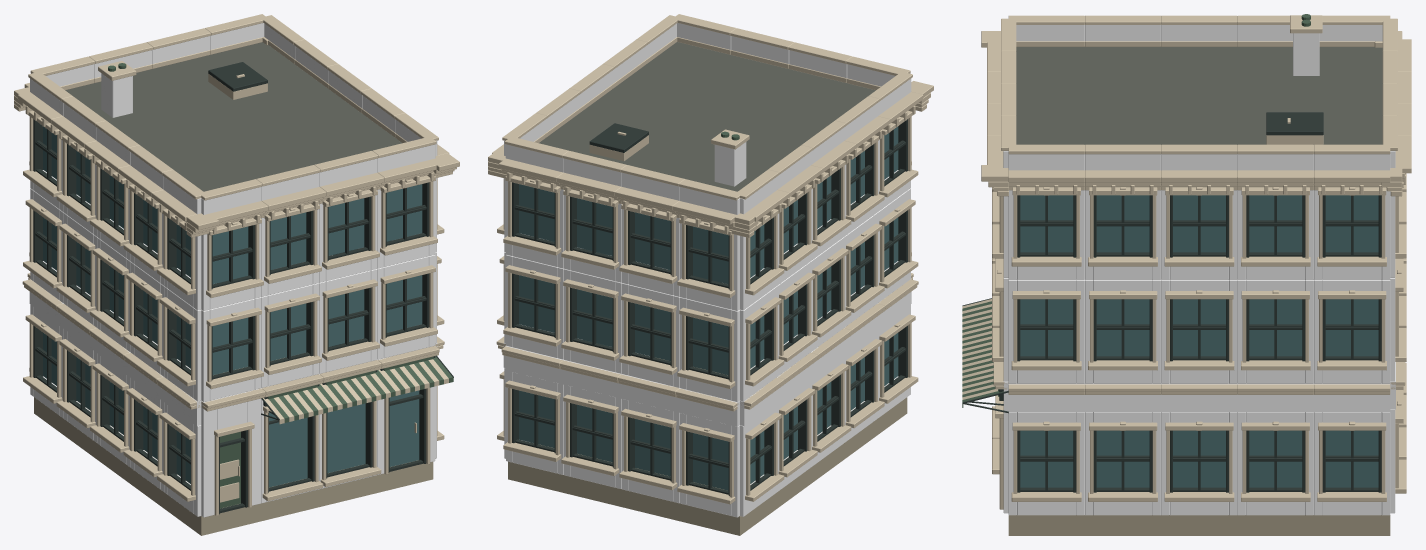
Rendered from neighborhood-cafe.glb.
The picture shows the model from 3 angles, left to right: view 1: azimuth 30°, elevation 25°; view 2: azimuth 150°, elevation 25°; view 3: azimuth 270°, elevation 25°; orthographic projection. The views are drawn at different scales.
Visible parts, largest first — view 1: Connected roof.013, Foundation.013, nyc-main/north/0/1250/wall.002, nyc-main/north/0/3750/glass.002, nyc-main/north/0/6250/glass.002, nyc-main/north/0/8750/glass.002, nyc-main/north/1/1250/wall.002, nyc-main/north/1/3750/wall.002, nyc-main/north/1/8750/wall.002, nyc-main/north/1/6250/wall.002, nyc-main/north/0/1250/trim.002, nyc-main/north/1/3750/trim.002 (+118 smaller); view 2: Connected roof.013, Foundation.013, nyc-main/south/1/1250/wall.002, nyc-main/south/0/1250/wall.002, nyc-main/south/1/6250/wall.002, nyc-main/south/1/8750/wall.002, nyc-main/south/1/3750/wall.002, nyc-main/south/0/6250/wall.002, nyc-main/south/0/8750/wall.002, nyc-main/south/0/3750/wall.002, nyc-main/south/1/8750/trim.002, nyc-main/south/0/1250/glass.002 (+118 smaller); view 3: Connected roof.013, Foundation.013, nyc-main/east/1/5000/wall.011, nyc-main/east/0/5000/wall.011, nyc-main/east/1/7000/glass.011, nyc-main/east/2/7000/glass.011, nyc-main/east/1/1000/glass.011, nyc-main/east/1/3000/glass.011, nyc-main/east/1/9000/glass.011, nyc-main/east/1/1000/wall.011, nyc-main/east/1/3000/wall.011, nyc-main/east/1/9000/wall.011 (+113 smaller).
Boxes of the visible parts, left/top/right/bottom form: Connected roof.013: left=65, top=42, right=402, bottom=191; Foundation.013: left=34, top=357, right=433, bottom=535; nyc-main/north/0/1250/wall.002: left=201, top=398, right=261, bottom=517; nyc-main/north/0/3750/glass.002: left=269, top=412, right=307, bottom=487; nyc-main/north/0/6250/glass.002: left=327, top=403, right=365, bottom=473; nyc-main/north/0/8750/glass.002: left=389, top=390, right=419, bottom=466; nyc-main/north/1/1250/wall.002: left=201, top=297, right=261, bottom=401; nyc-main/north/1/3750/wall.002: left=261, top=283, right=319, bottom=387; nyc-main/north/1/8750/wall.002: left=377, top=255, right=435, bottom=359; nyc-main/north/1/6250/wall.002: left=319, top=269, right=377, bottom=373; nyc-main/north/0/1250/trim.002: left=214, top=421, right=254, bottom=515; nyc-main/north/1/3750/trim.002: left=264, top=293, right=321, bottom=374; Connected roof.013: left=539, top=42, right=875, bottom=191; Foundation.013: left=508, top=358, right=907, bottom=535; nyc-main/south/1/1250/wall.002: left=680, top=297, right=739, bottom=402; nyc-main/south/0/1250/wall.002: left=680, top=413, right=739, bottom=517; nyc-main/south/1/6250/wall.002: left=564, top=269, right=621, bottom=373; nyc-main/south/1/8750/wall.002: left=506, top=255, right=563, bottom=359; nyc-main/south/1/3750/wall.002: left=622, top=283, right=679, bottom=387; nyc-main/south/0/6250/wall.002: left=564, top=385, right=621, bottom=489; nyc-main/south/0/8750/wall.002: left=506, top=370, right=563, bottom=474; nyc-main/south/0/3750/wall.002: left=622, top=399, right=679, bottom=503; nyc-main/south/1/8750/trim.002: left=503, top=265, right=561, bottom=346; nyc-main/south/0/1250/glass.002: left=693, top=433, right=728, bottom=490; Connected roof.013: left=1016, top=46, right=1382, bottom=144; Foundation.013: left=1008, top=515, right=1390, bottom=535; nyc-main/east/1/5000/wall.011: left=1161, top=280, right=1237, bottom=383; nyc-main/east/0/5000/wall.011: left=1161, top=412, right=1237, bottom=515; nyc-main/east/1/7000/glass.011: left=1096, top=299, right=1149, bottom=356; nyc-main/east/2/7000/glass.011: left=1096, top=195, right=1149, bottom=252; nyc-main/east/1/1000/glass.011: left=1325, top=299, right=1378, bottom=356; nyc-main/east/1/3000/glass.011: left=1249, top=299, right=1302, bottom=356; nyc-main/east/1/9000/glass.011: left=1020, top=299, right=1073, bottom=356; nyc-main/east/1/1000/wall.011: left=1314, top=280, right=1390, bottom=383; nyc-main/east/1/3000/wall.011: left=1237, top=280, right=1313, bottom=383; nyc-main/east/1/9000/wall.011: left=1008, top=280, right=1084, bottom=383.
Size of the model in its own units: 9.12 by 11.96 by 11.77.
